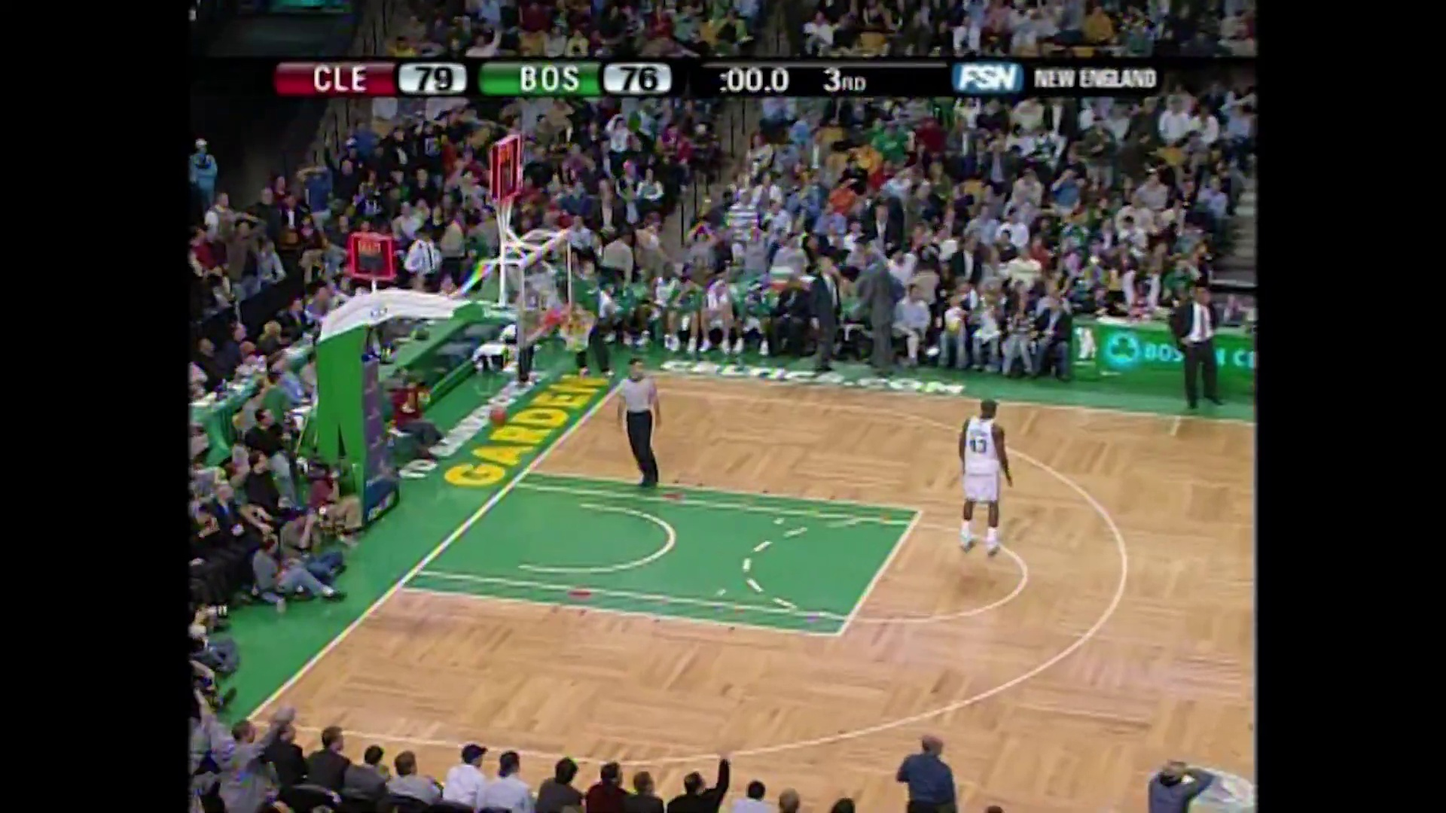basket_hoop: (473, 215, 631, 366)
